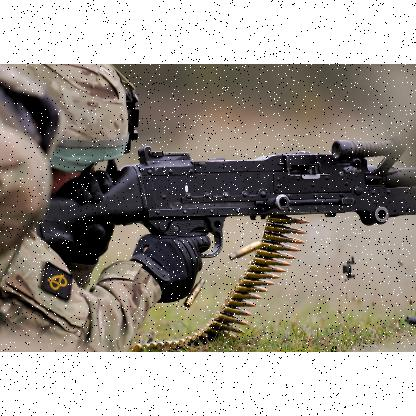gun: (32, 128, 406, 334)
